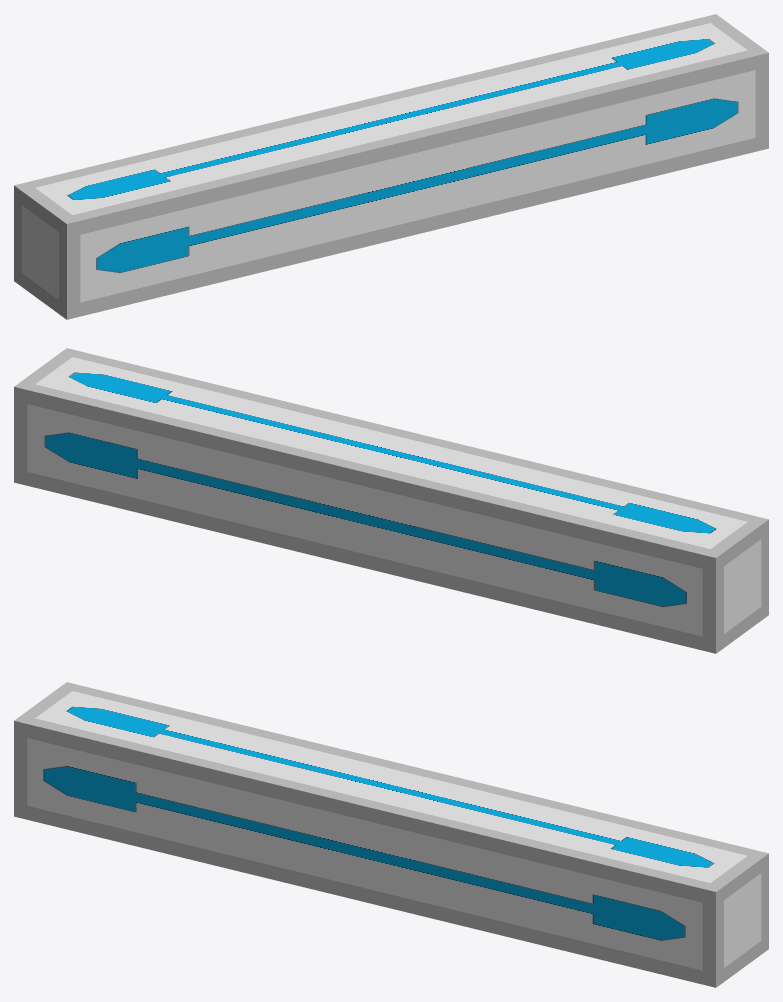
File: Level_Object_Slider.fbx
The picture shows the model from 3 angles, top to bottom: view 1: azimuth 30°, elevation 25°; view 2: azimuth 150°, elevation 25°; view 3: azimuth 330°, elevation 25°; orthographic projection.
Visible parts, largest first — view 1: Level_Obeject_Inside2, Level_Object_Frame; view 2: Level_Obeject_Inside2, Level_Object_Frame; view 3: Level_Obeject_Inside2, Level_Object_Frame.
Part boxes in pixels (bbox=[...]): Level_Obeject_Inside2: bbox=[21, 23, 755, 302]; Level_Object_Frame: bbox=[14, 14, 768, 319]; Level_Obeject_Inside2: bbox=[27, 357, 761, 636]; Level_Object_Frame: bbox=[14, 348, 768, 653]; Level_Obeject_Inside2: bbox=[27, 691, 761, 970]; Level_Object_Frame: bbox=[14, 682, 768, 987].
Bounding box in the file's own units: 1226 × 160 × 160.
